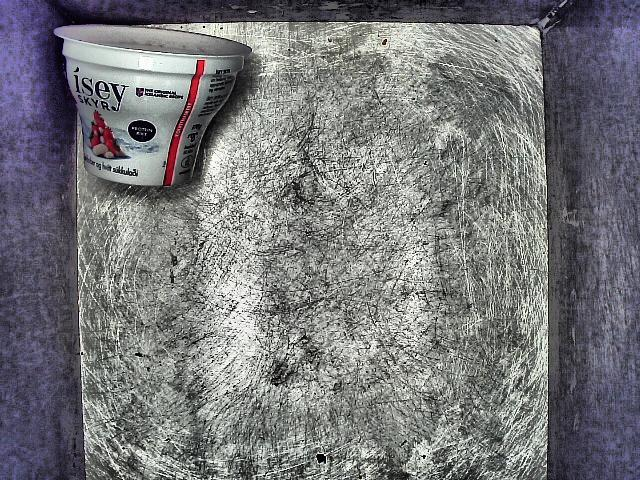Plastic: (46, 14, 253, 197)
